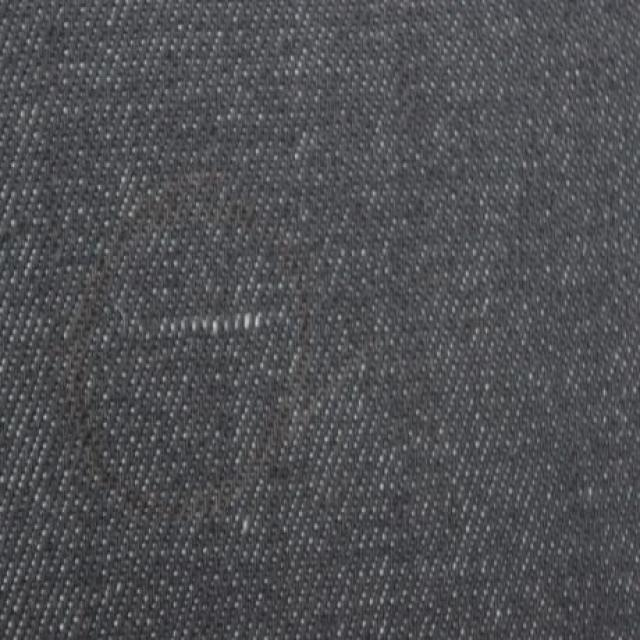stains: (106, 262, 320, 377)
